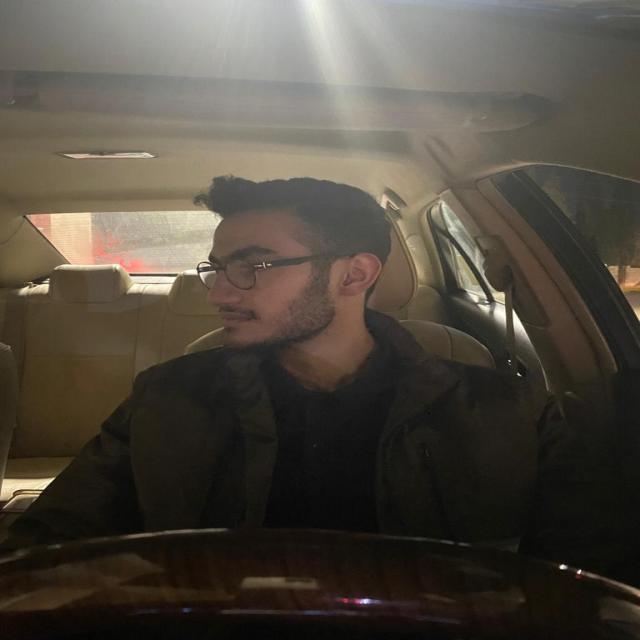LeftRight: (182, 170, 401, 386)
